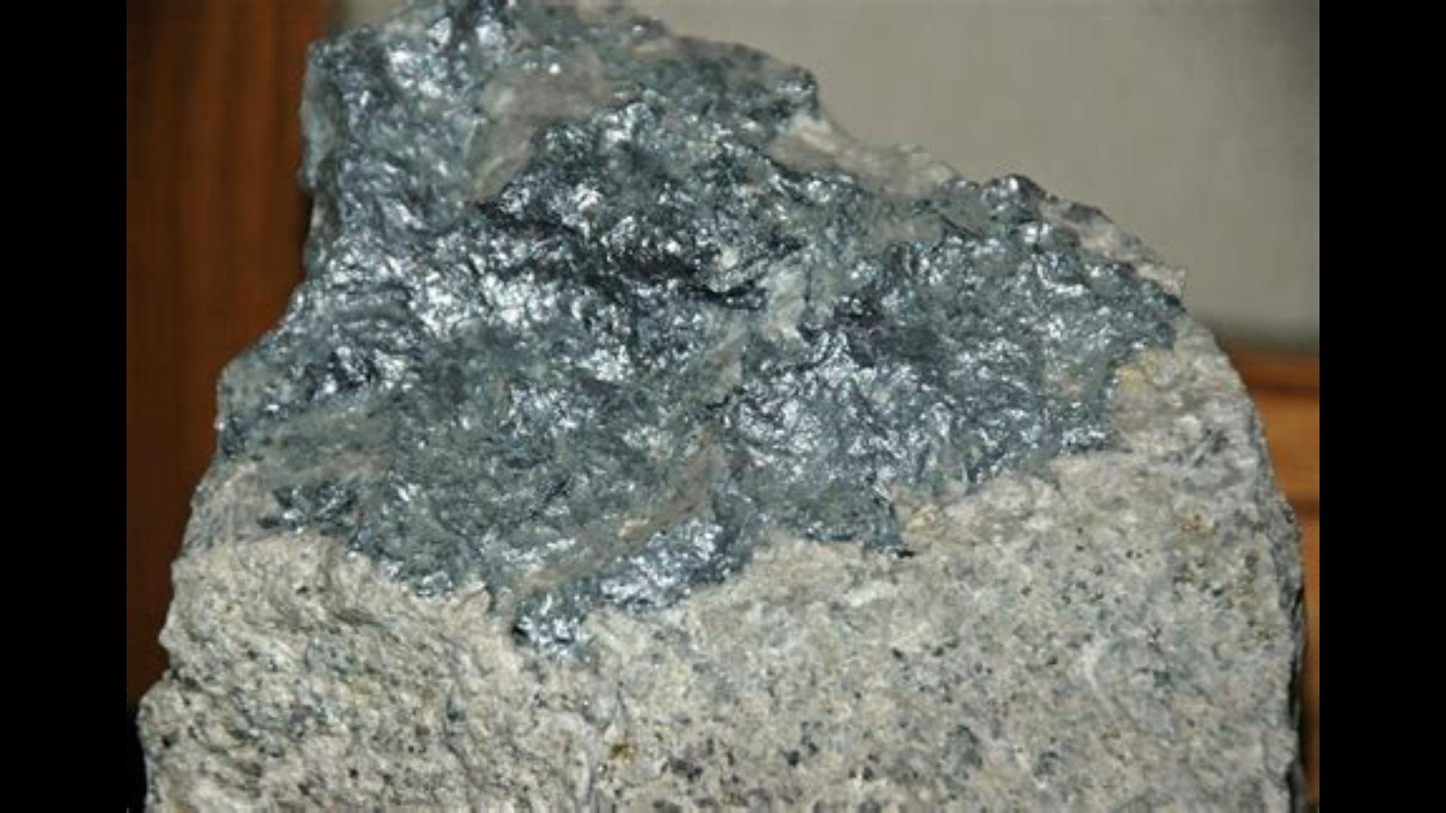rock: (144, 5, 1290, 810)
